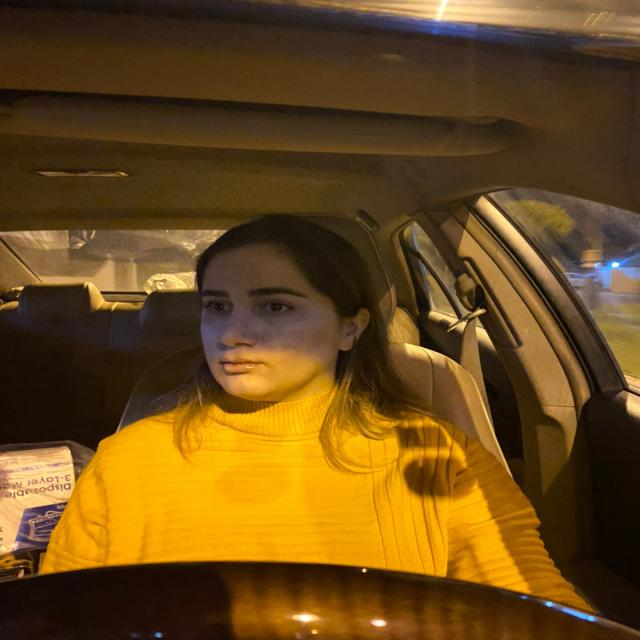person: (192, 208, 380, 415)
